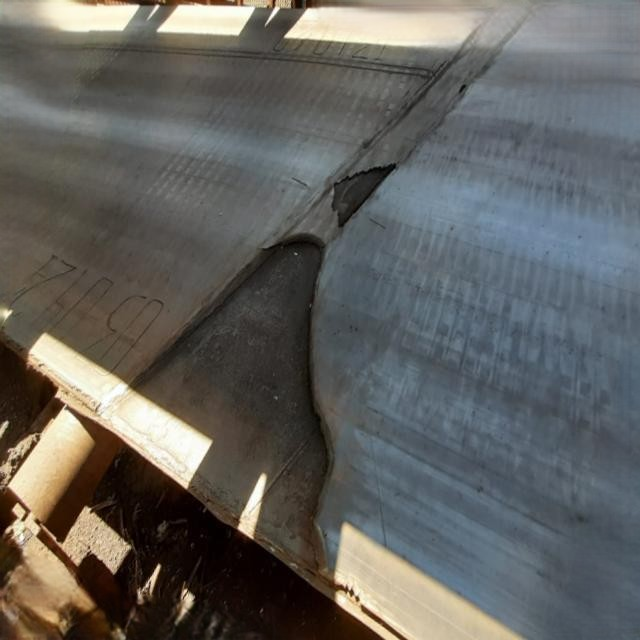Tear: (98, 228, 348, 597), (318, 156, 410, 232)
